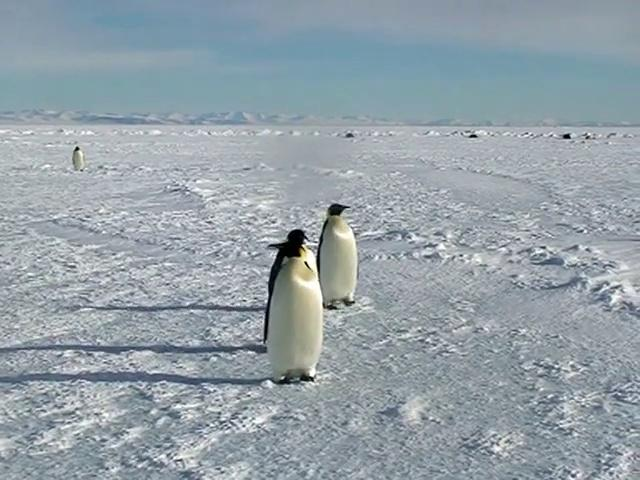animal: (319, 205, 359, 309)
